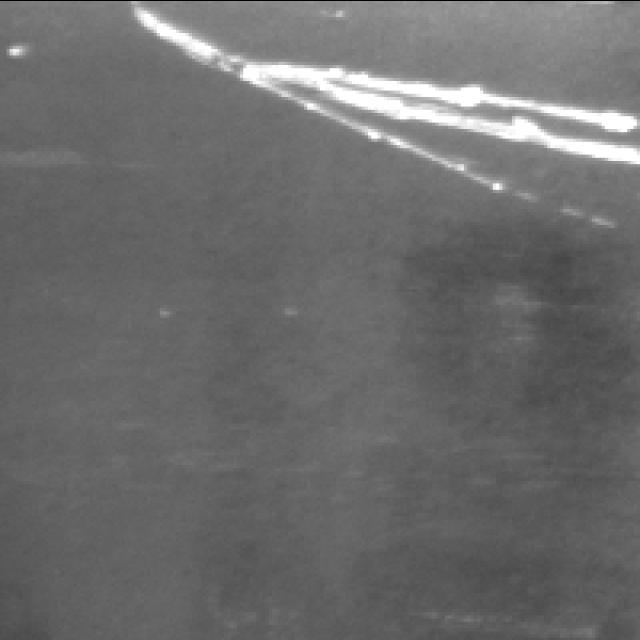scratches: (133, 15, 622, 234), (321, 84, 639, 150)
